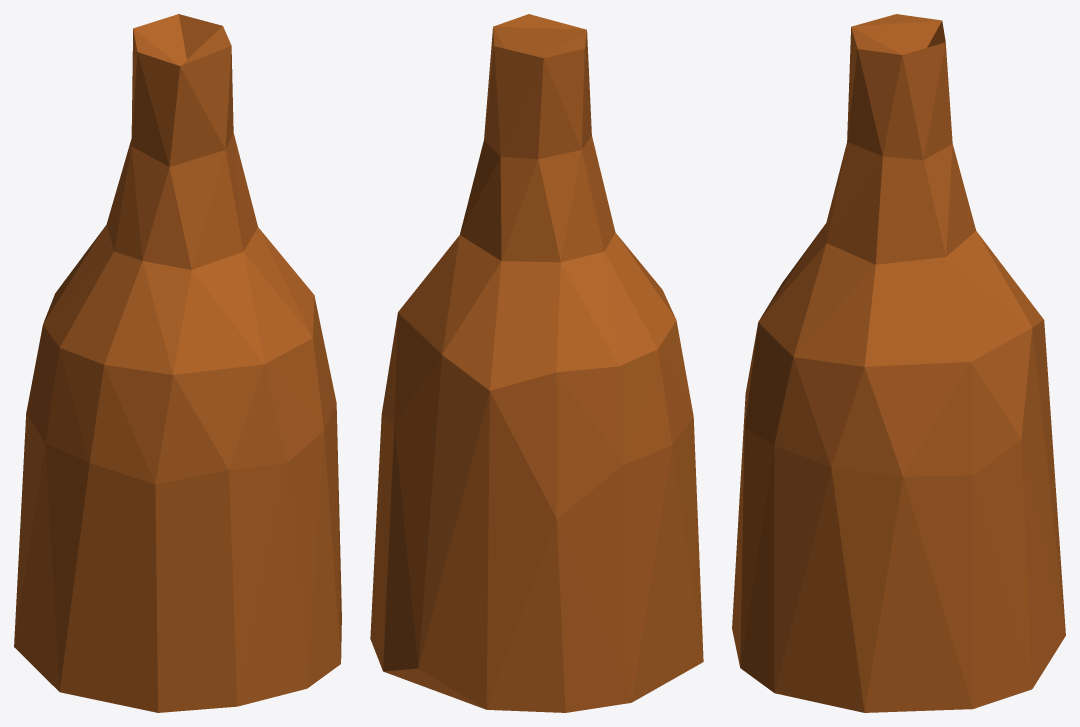
File: SM_pottery_02.fbx
3 views of the same model, side by side, from view 1: azimuth 30°, elevation 25°; view 2: azimuth 150°, elevation 25°; view 3: azimuth 270°, elevation 25° (orthographic).
Parts seen in each view (by area): view 1: Group31367; view 2: Group31367; view 3: Group31367.
Boxes of the visible parts, left/top/right/bottom form: Group31367: left=14, top=14, right=341, bottom=712; Group31367: left=370, top=14, right=703, bottom=712; Group31367: left=732, top=14, right=1065, bottom=712.
Size of the model in its own units: 25.88 by 52.42 by 25.86.
